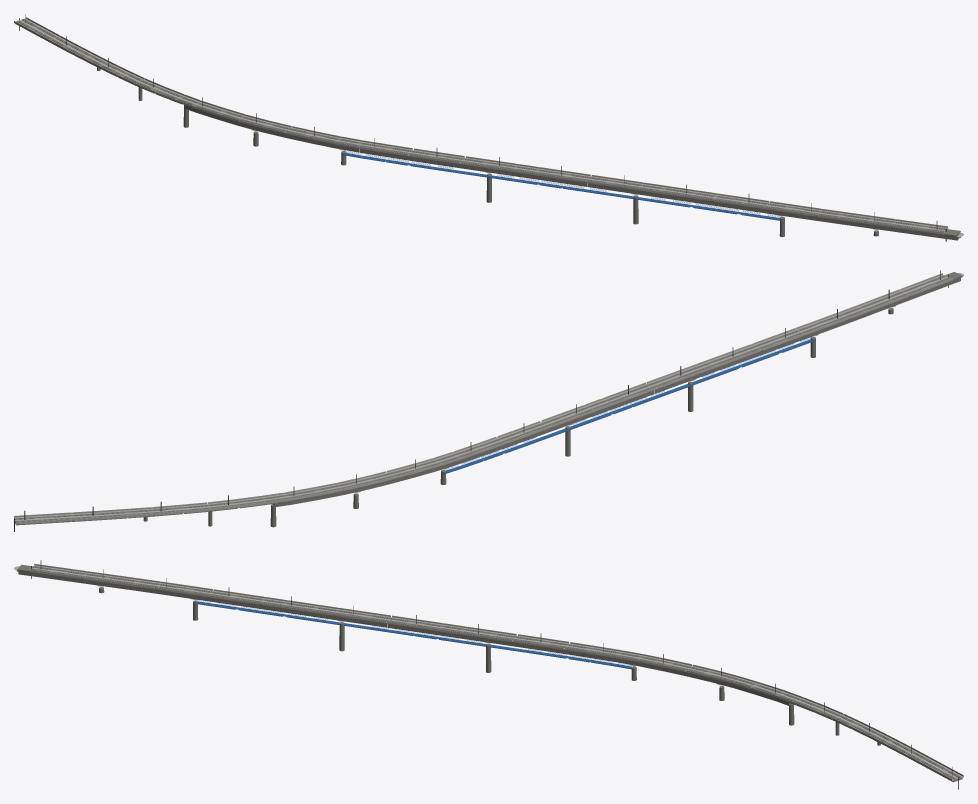
The model's file is br_r9_menzies_lod1.gltf.
3 renders of one model, top to bottom at view 1: azimuth 90°, elevation 25°; view 2: azimuth 150°, elevation 25°; view 3: azimuth 270°, elevation 25°, orthographic. The views are drawn at different scales.
Visible parts, largest first — view 1: br_r9_menzies_lod1; view 2: br_r9_menzies_lod1; view 3: br_r9_menzies_lod1.
Boxes of the visible parts, x1,y1,x2,y2 form: br_r9_menzies_lod1: [14, 14, 963, 241]; br_r9_menzies_lod1: [14, 270, 963, 531]; br_r9_menzies_lod1: [14, 560, 963, 789].
Bounding box in the file's own units: 326 × 32.5 × 603.
